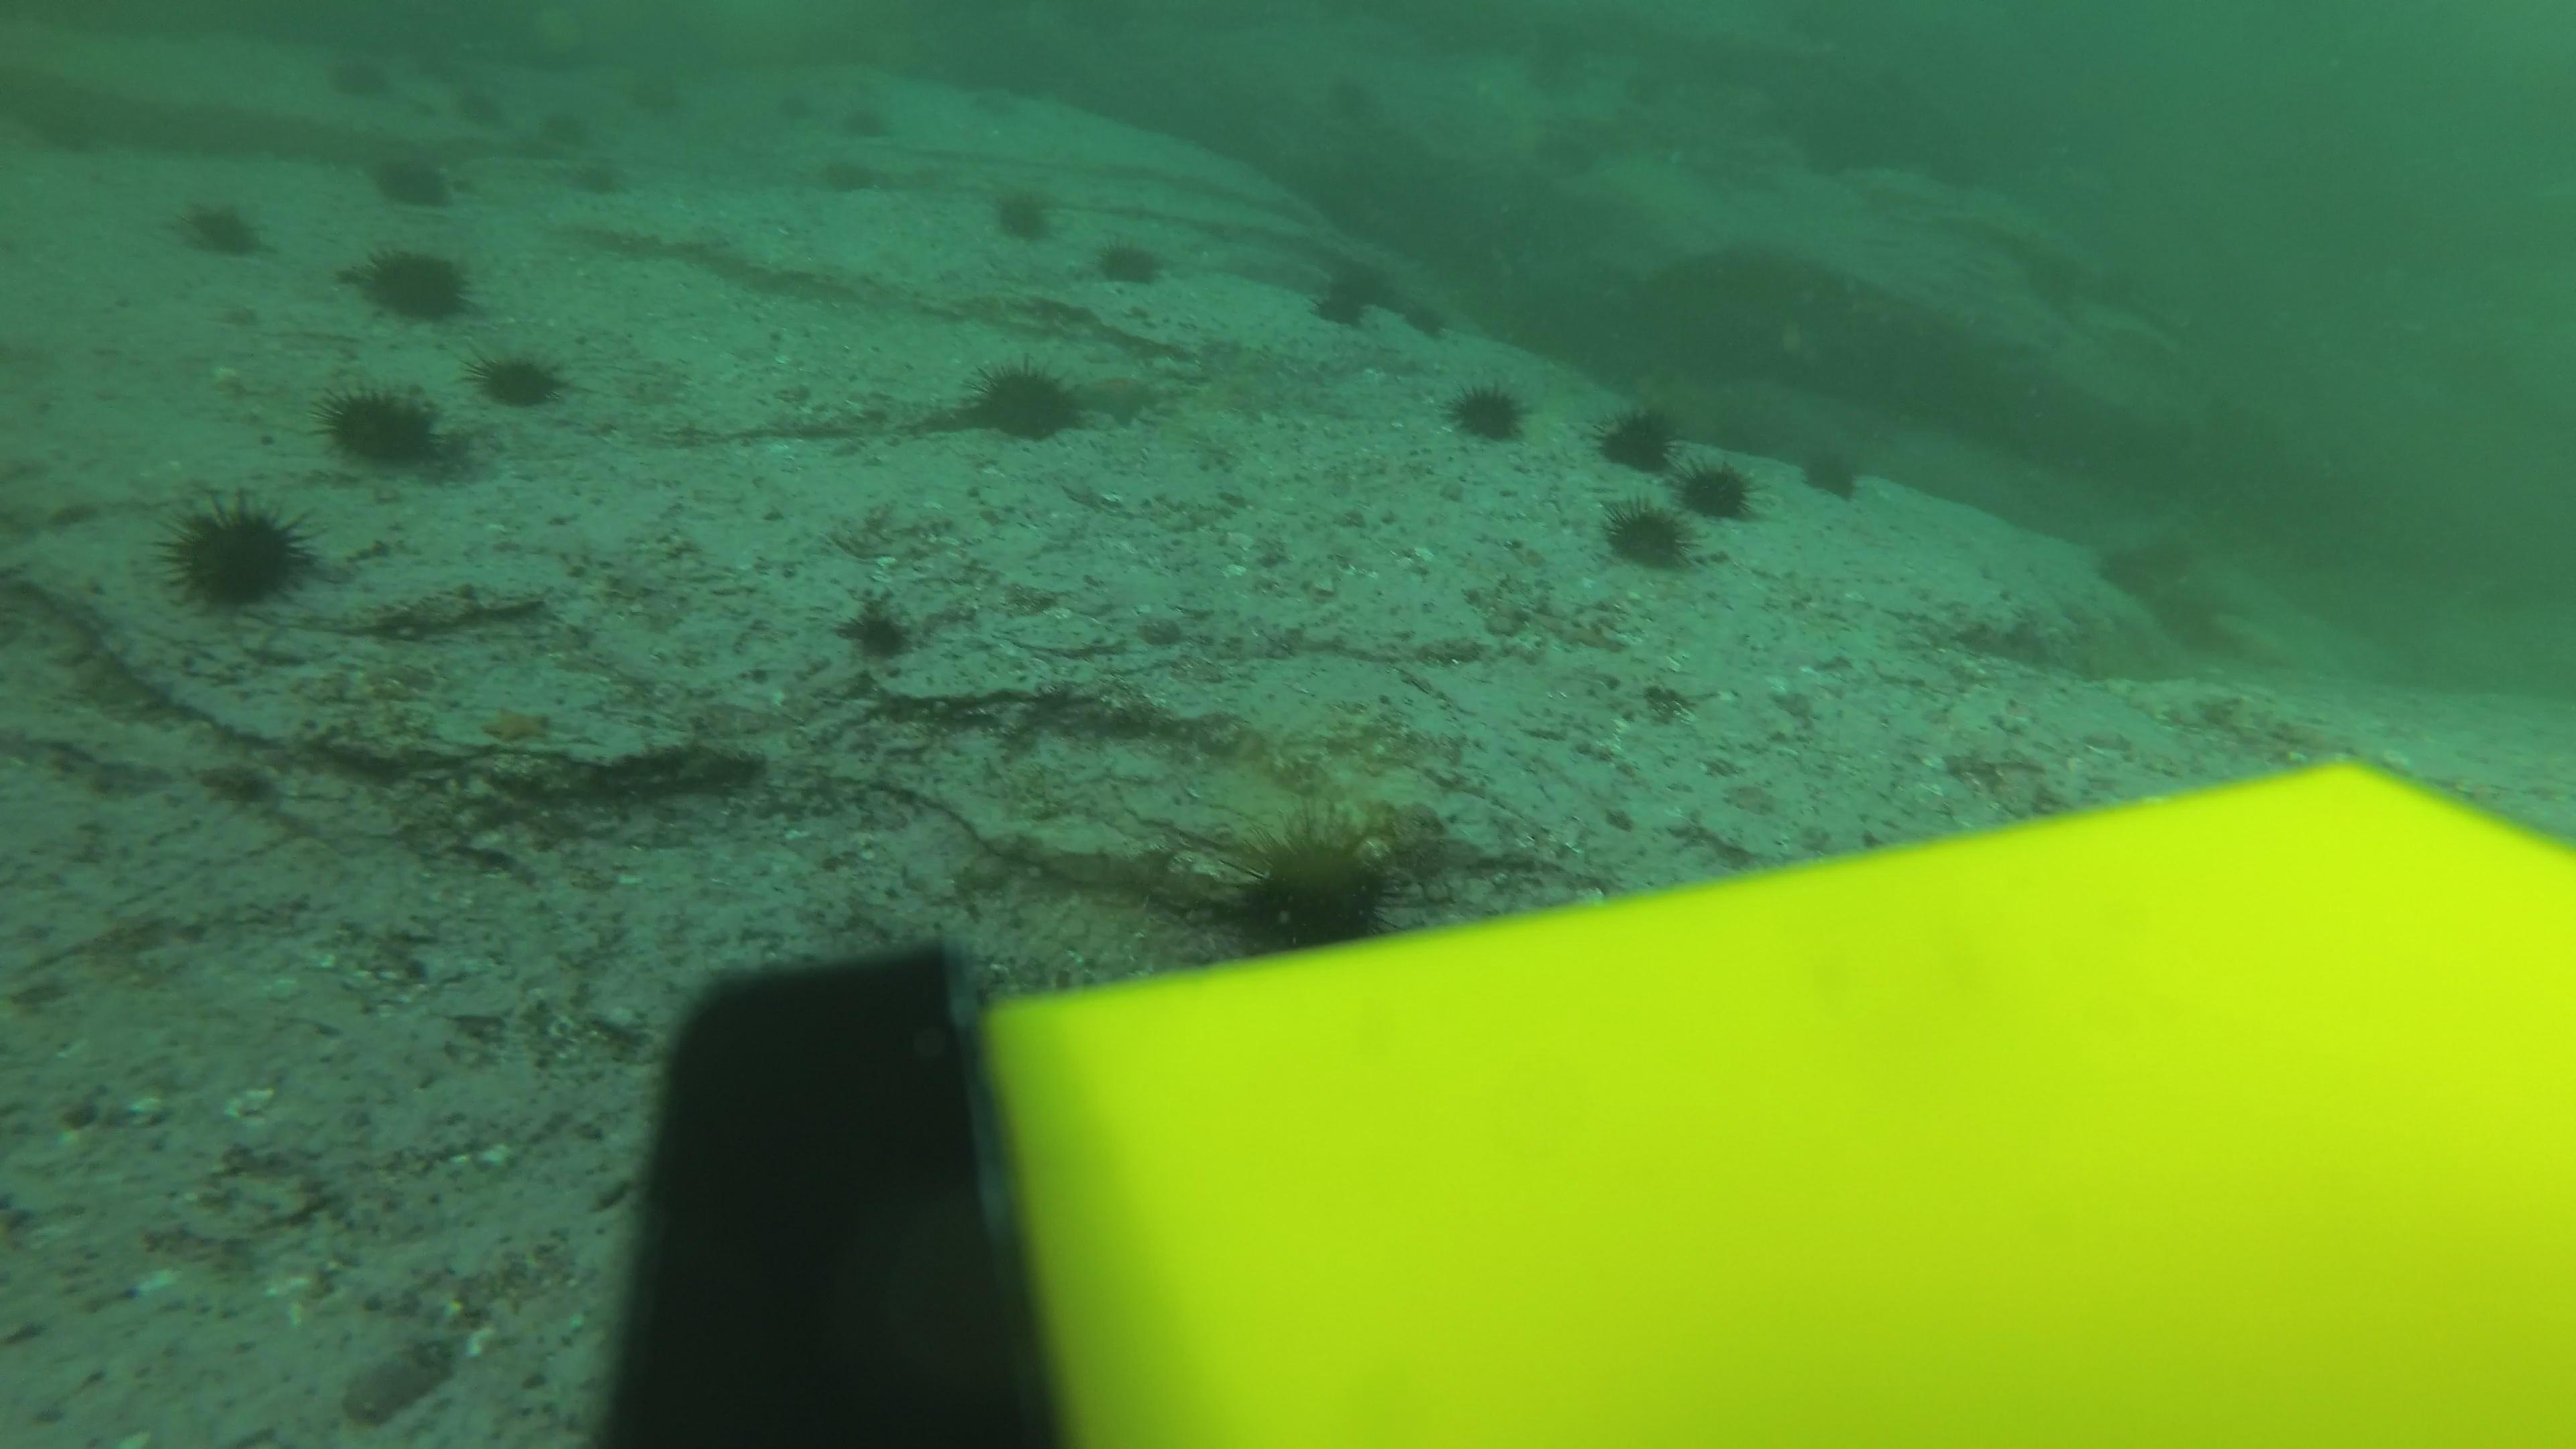echinus: (1207, 814, 1408, 952), (157, 488, 318, 619), (315, 377, 464, 481), (957, 354, 1093, 451), (350, 237, 478, 329), (1596, 492, 1706, 580), (166, 189, 272, 265), (469, 341, 571, 418), (1591, 396, 1686, 478), (1438, 372, 1536, 451), (1672, 453, 1764, 533), (366, 142, 460, 218), (984, 175, 1065, 249), (1794, 439, 1874, 508), (1090, 230, 1171, 294), (327, 48, 400, 103), (527, 81, 594, 140), (610, 64, 676, 122), (757, 73, 823, 131), (444, 80, 511, 136), (570, 154, 635, 211), (833, 81, 899, 138), (821, 156, 886, 212), (1299, 288, 1366, 333), (1401, 304, 1467, 349), (1315, 67, 1380, 111), (1555, 127, 1621, 172), (1516, 44, 1582, 88), (1629, 65, 1695, 110)
starfish: (1065, 368, 1166, 433), (476, 699, 557, 752)
